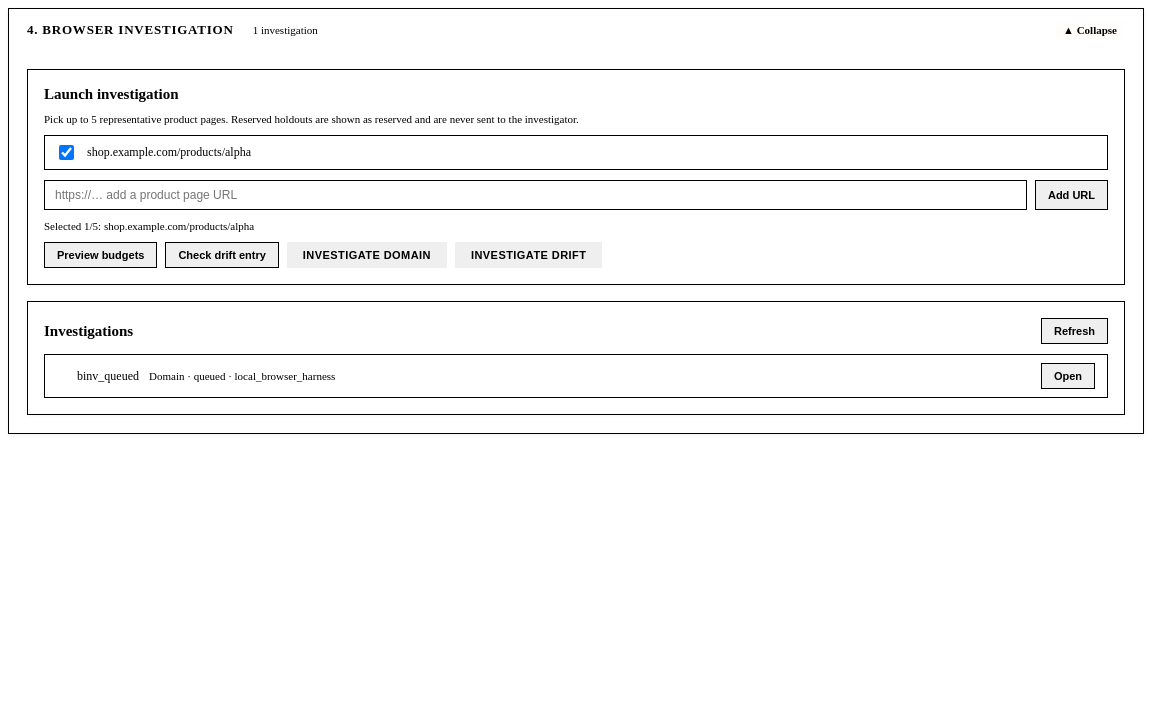
Scenario: #245 live watch and cancel for running investigations › cancel while queued reflects cancelled and hides validate/apply
The image size is (1152, 704).
Click the button "Open" at (1068, 376), box [1041, 363, 1095, 389]
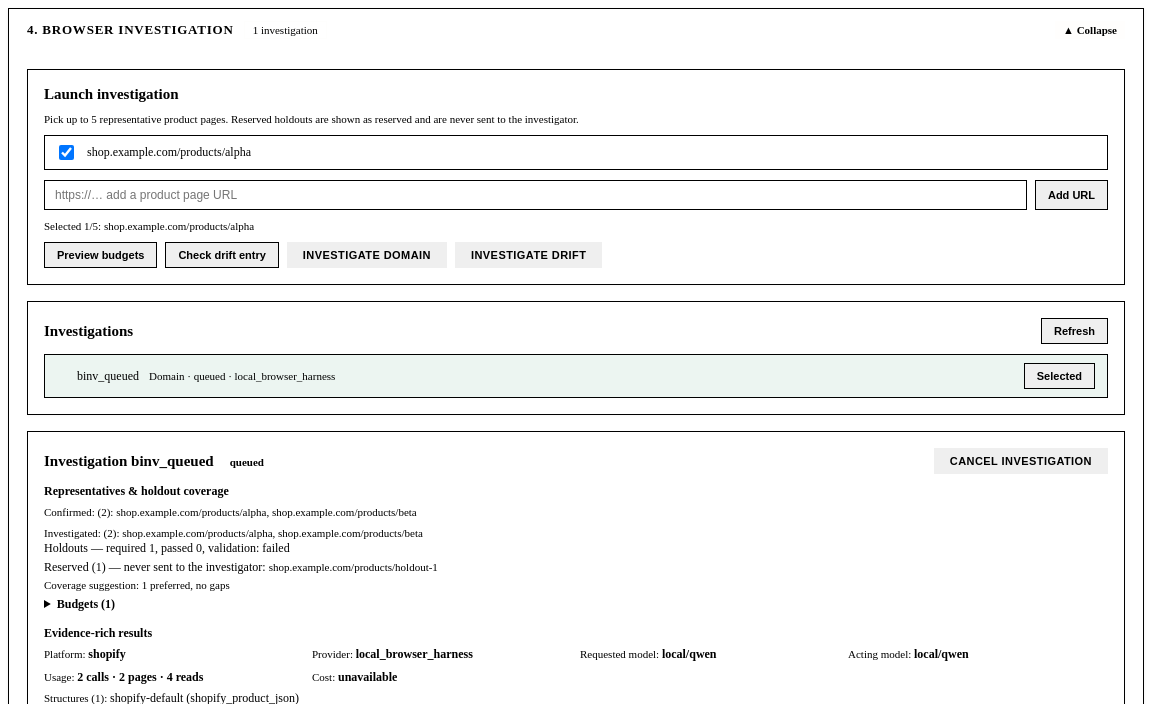
Check: the text "queued" is shown, box [77, 368, 139, 382]
Check: the text "Cancel investigation" is shown
Click the button "Cancel investigation" at (1021, 461), box [934, 448, 1108, 474]
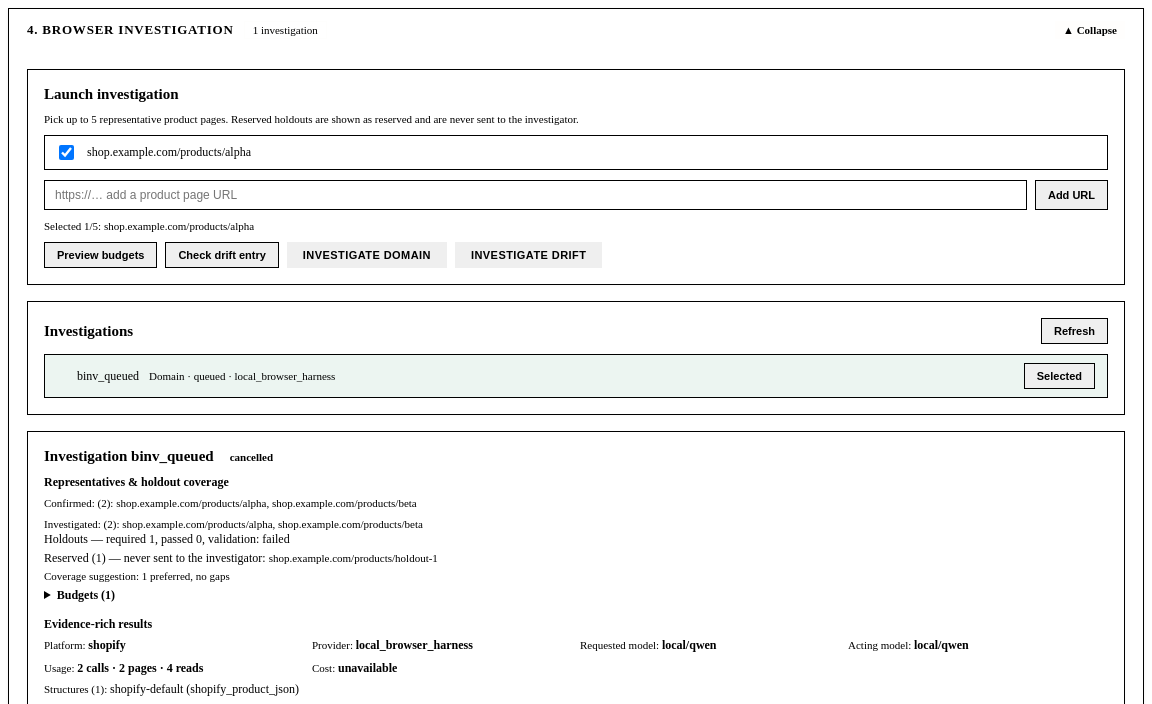
Check: the text "cancelled" is shown, box [230, 451, 273, 463]
Check: the text "Cancel investigation" is gone
